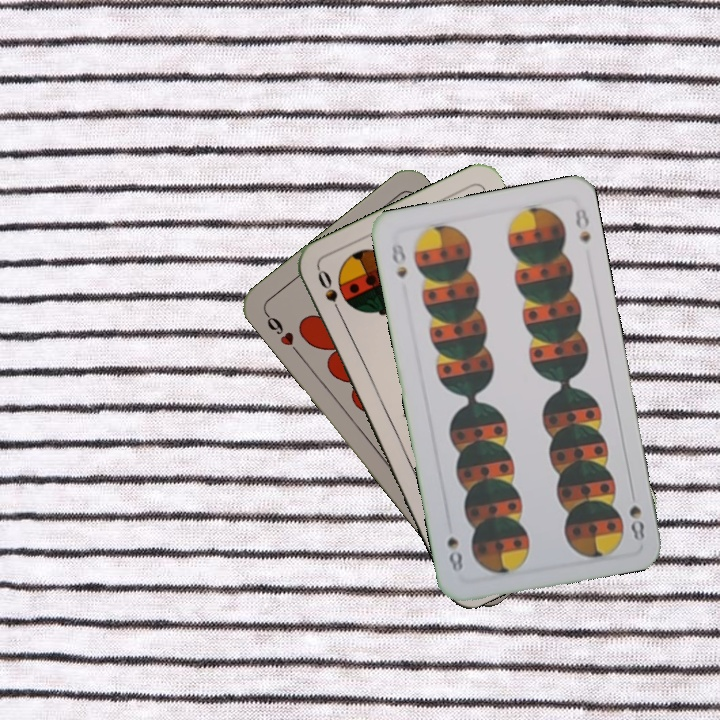H9: (261, 308, 303, 358)
S8: (625, 485, 647, 544), (387, 238, 410, 281)
SO: (313, 265, 346, 322)
